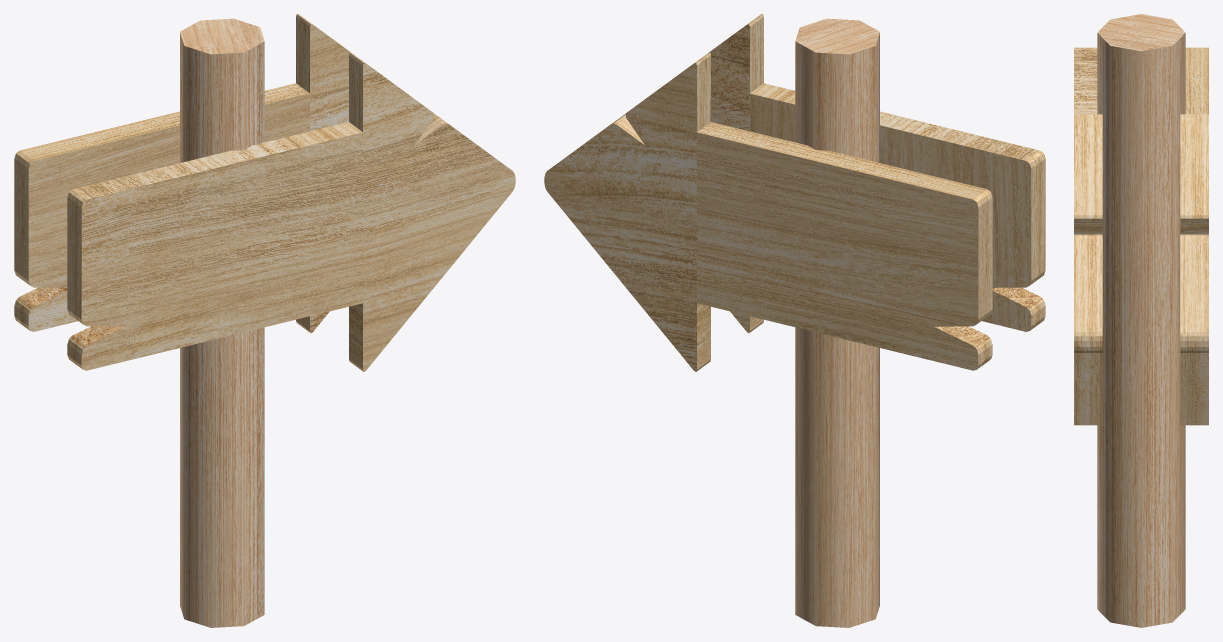
File: Pointer.fbx
3 views of the same model, side by side, from view 1: azimuth 30°, elevation 25°; view 2: azimuth 150°, elevation 25°; view 3: azimuth 270°, elevation 25° (orthographic).
Visible parts, largest first — view 1: pointer.001, pointer_2.001; view 2: pointer.001, pointer_2.001; view 3: pointer_2.001, pointer.001.
Boxes of the visible parts, left/top/right/bottom form: pointer.001: left=14, top=14, right=515, bottom=371; pointer_2.001: left=180, top=18, right=264, bottom=627; pointer.001: left=544, top=14, right=1045, bottom=371; pointer_2.001: left=795, top=18, right=879, bottom=627; pointer_2.001: left=1097, top=14, right=1185, bottom=627; pointer.001: left=1074, top=47, right=1208, bottom=425.
Bounding box in the file's own units: 2.01 × 2.54 × 0.5379.
